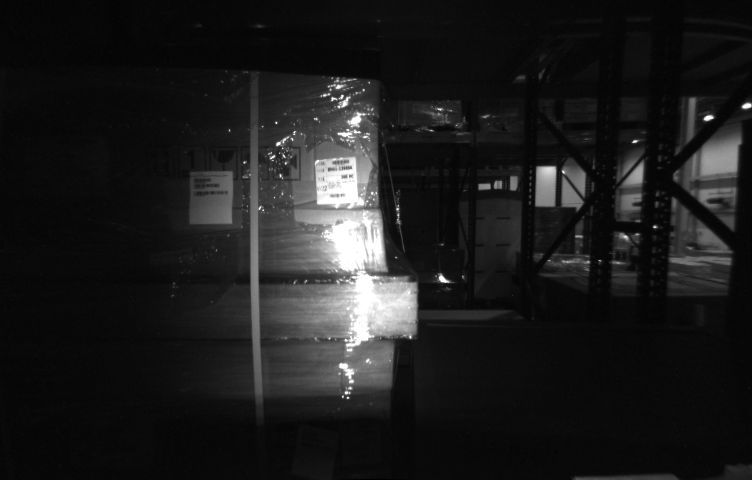True Barcode: (316, 157, 358, 205)
